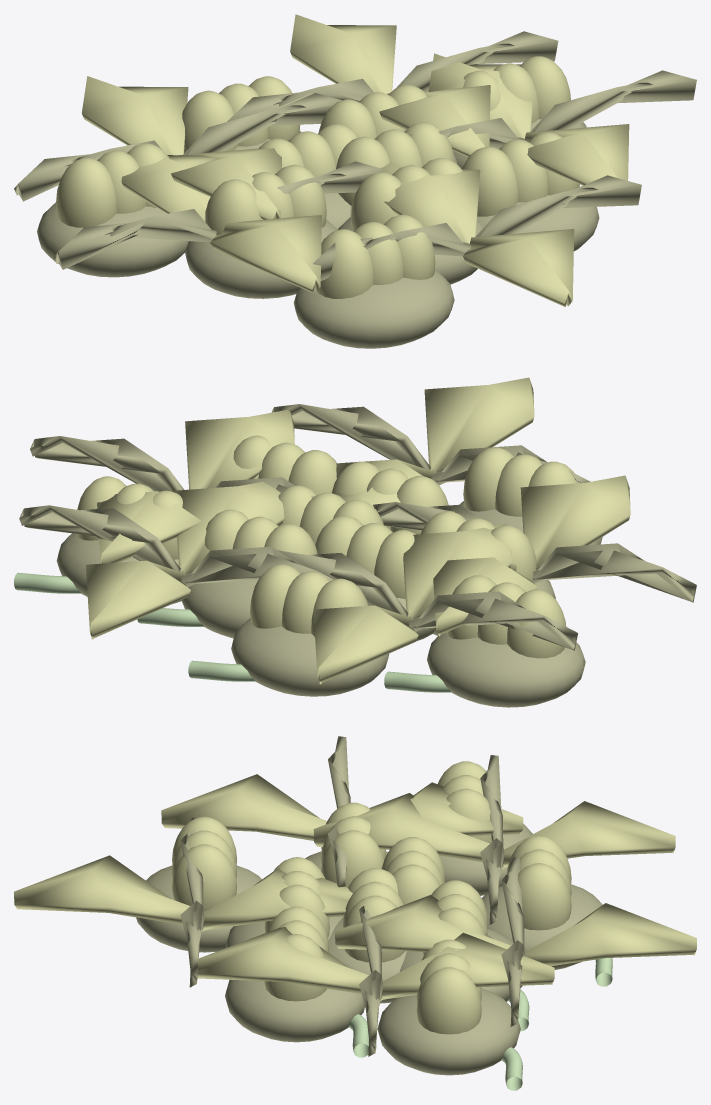
The model's file is bio_acid_mat_05_near.glb.
3 renders of one model, top to bottom at view 1: azimuth 30°, elevation 25°; view 2: azimuth 150°, elevation 25°; view 3: azimuth 270°, elevation 25°, orthographic. The views are drawn at different scales.
Parts seen in each view (by area): view 1: Low buttress leaf.009, Low buttress leaf.013, Low buttress leaf.005, Low buttress leaf.017, Microbial cushion.007, Low buttress leaf.001, Reaction vesicle.021, Low buttress leaf.008, Reaction vesicle.027, Low buttress leaf.016, Low buttress leaf.004, Reaction vesicle.015 (+14 smaller); view 2: Low buttress leaf.005, Low buttress leaf.013, Low buttress leaf.017, Low buttress leaf.001, Low buttress leaf.009, Microbial cushion.009, Low buttress leaf.012, Low buttress leaf.004, Microbial cushion.006, Low buttress leaf.016, Low buttress leaf.008, Reaction vesicle.018 (+17 smaller); view 3: Low buttress leaf.013, Low buttress leaf.009, Low buttress leaf.001, Low buttress leaf.005, Low buttress leaf.017, Microbial cushion.008, Microbial cushion.005, Reaction vesicle.024, Reaction vesicle.018, Reaction vesicle.021, Reaction vesicle.012, Reaction vesicle.003 (+18 smaller).
Part boxes in pixels (x1,y1,x2,y2): Low buttress leaf.009: (381,162,574,306); Low buttress leaf.013: (290,14,490,156); Low buttress leaf.005: (82,76,281,219); Low buttress leaf.017: (121,144,321,293); Microbial cushion.007: (294,269,454,348); Low buttress leaf.001: (428,53,629,185); Reaction vesicle.021: (317,214,435,298); Low buttress leaf.008: (313,175,641,280); Reaction vesicle.027: (56,143,169,227); Low buttress leaf.016: (54,161,385,269); Low buttress leaf.004: (14,93,342,201); Reaction vesicle.015: (462,132,579,216); Low buttress leaf.005: (313,523,511,684); Low buttress leaf.013: (86,481,284,639); Low buttress leaf.017: (433,475,630,636); Low buttress leaf.001: (97,410,294,563); Low buttress leaf.009: (336,377,534,507); Microbial cushion.009: (427,632,585,707); Low buttress leaf.012: (19,505,333,586); Low buttress leaf.004: (277,550,577,650); Microbial cushion.006: (231,618,389,696); Low buttress leaf.016: (373,502,696,602); Low buttress leaf.008: (271,404,590,485); Reaction vesicle.018: (250,564,368,636); Low buttress leaf.013: (335,895,696,966); Low buttress leaf.009: (14,855,352,931); Low buttress leaf.001: (197,927,554,1000); Low buttress leaf.005: (313,793,675,869); Low buttress leaf.017: (161,774,523,840); Microbial cushion.008: (377,988,520,1075); Microbial cushion.005: (225,958,364,1042); Reaction vesicle.024: (416,939,481,1034); Reaction vesicle.018: (506,835,571,930); Reaction vesicle.021: (172,816,236,911); Reaction vesicle.012: (321,802,385,887); Reaction vesicle.003: (381,837,445,904).
Size of the model in its own units: 2.22 by 0.38 by 2.09.
